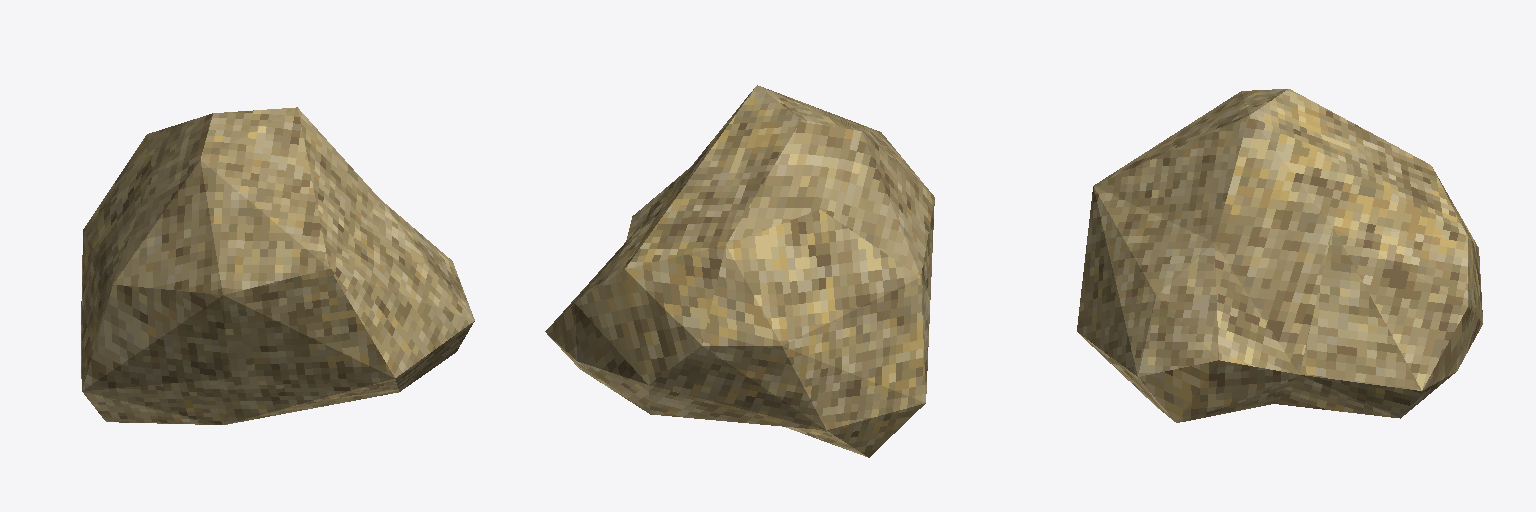
3 renders of one model, left to right at view 1: azimuth 30°, elevation 25°; view 2: azimuth 150°, elevation 25°; view 3: azimuth 270°, elevation 25°, orthographic.
Visible parts, largest first — view 1: mboulderdes_0; view 2: mboulderdes_0; view 3: mboulderdes_0.
Part boxes in pixels (left/top/right/bottom): mboulderdes_0: left=81, top=107, right=474, bottom=424; mboulderdes_0: left=545, top=85, right=934, bottom=457; mboulderdes_0: left=1077, top=89, right=1482, bottom=422.
Size of the model in its own units: 1.68 by 1.48 by 1.78.
1 materials, 1 textured.